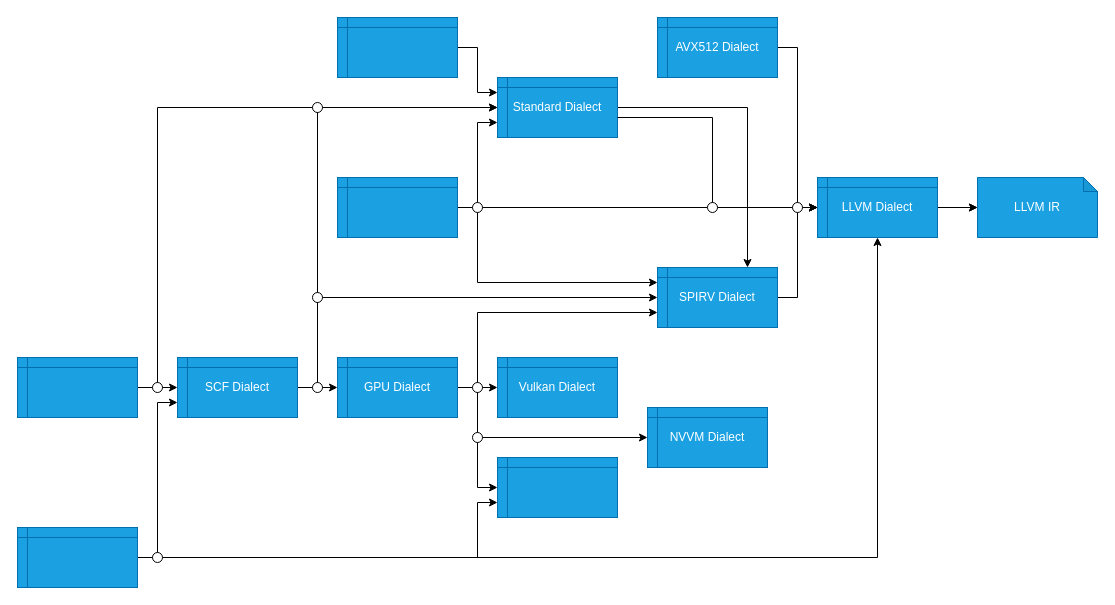
Image size: 1115x605. Some labels were removed from this diagram. Each missing label, with the centre of its shape:
"Affine Dialect" goes at (397,47).
"Linalg Dialect" goes at (397,207).
"ROCDL Dialect" goes at (557,487).
"Shape Dialect" goes at (77,387).
"Vector Dialect" goes at (77,557).
